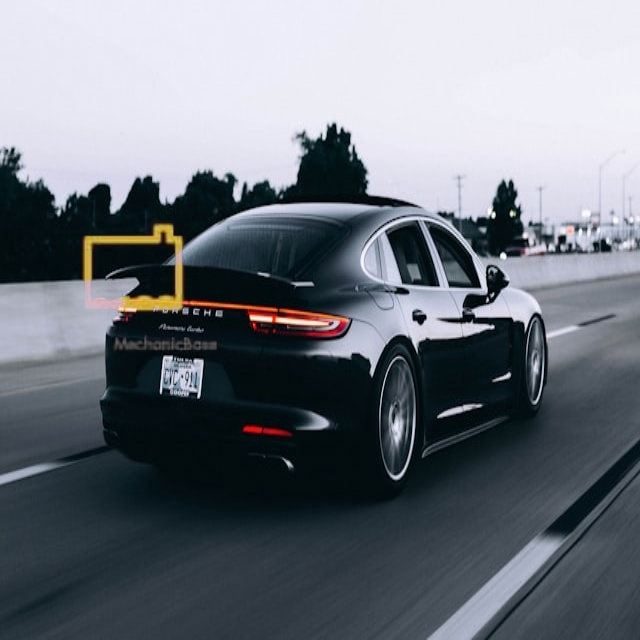symbol: (43, 178, 224, 359)
